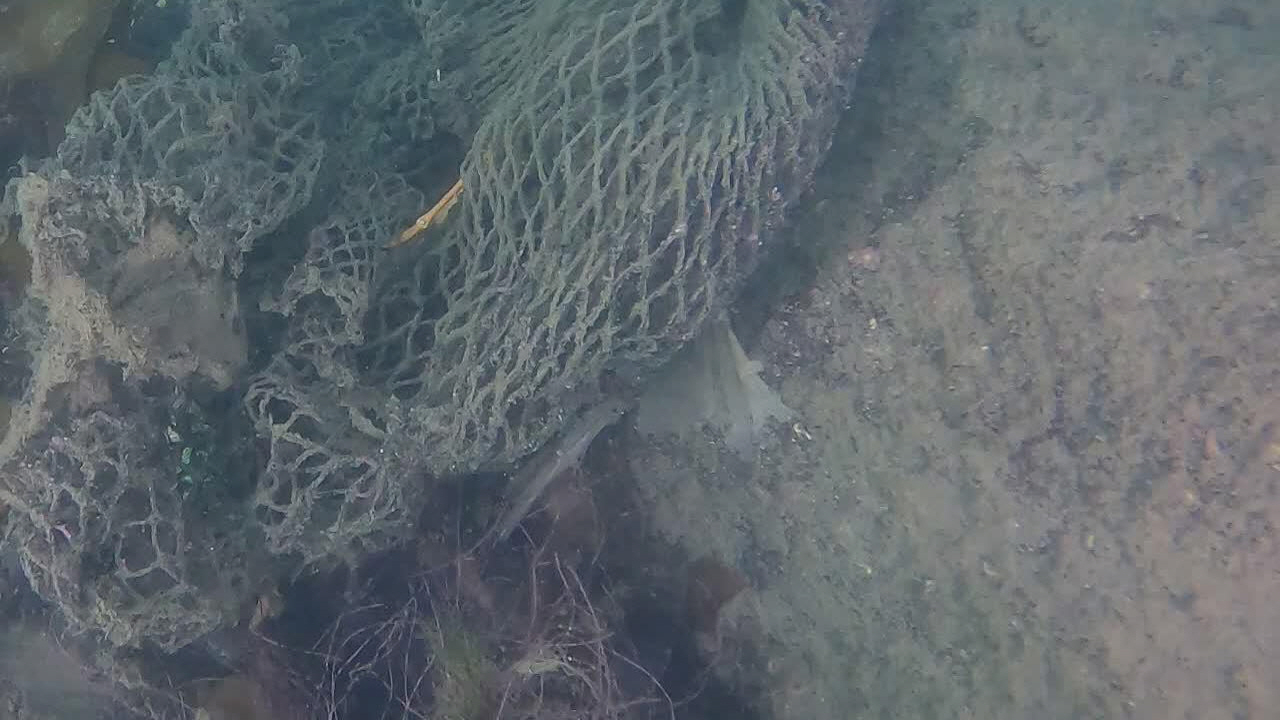fish net: (0, 0, 883, 648)
